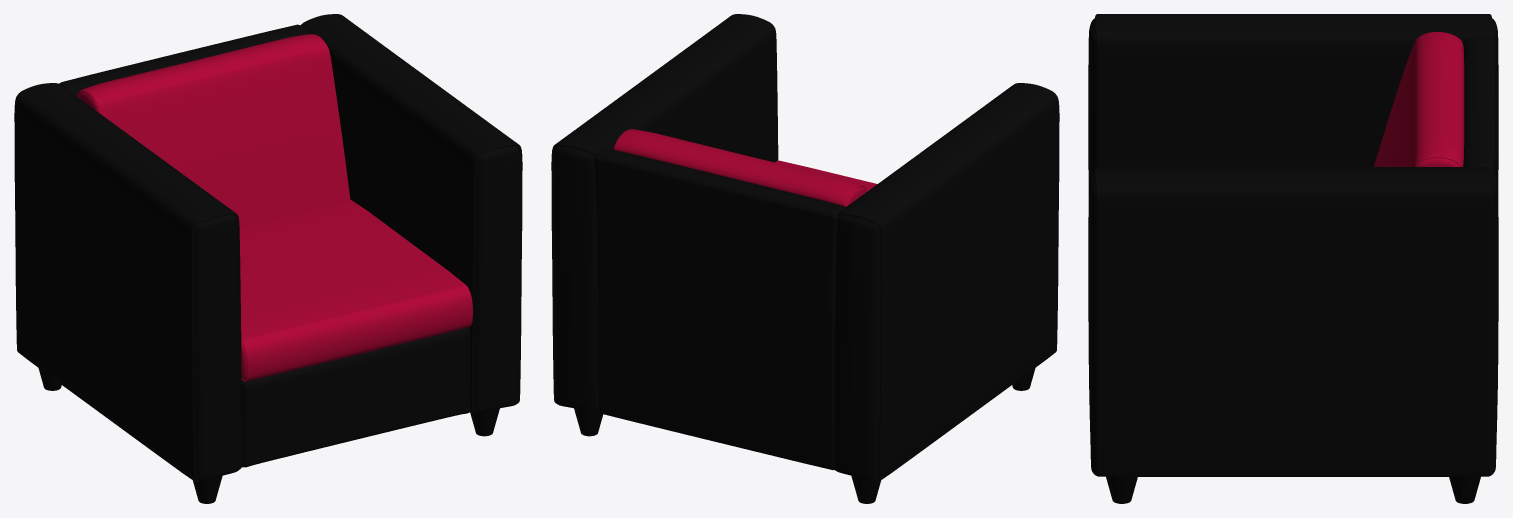
3 renders of one model, left to right at view 1: azimuth 30°, elevation 25°; view 2: azimuth 150°, elevation 25°; view 3: azimuth 270°, elevation 25°, orthographic. The views are drawn at different scales.
Parts seen in each view (by area): view 1: RootNode; view 2: RootNode; view 3: RootNode.
Boxes of the visible parts, bbox=[...] form: RootNode: bbox=[14, 14, 522, 503]; RootNode: bbox=[551, 14, 1059, 503]; RootNode: bbox=[1088, 14, 1498, 503].
Bounding box in the file's own units: 0.8386 × 0.7241 × 0.8095.
Materials: 1 (1 with a texture image).
